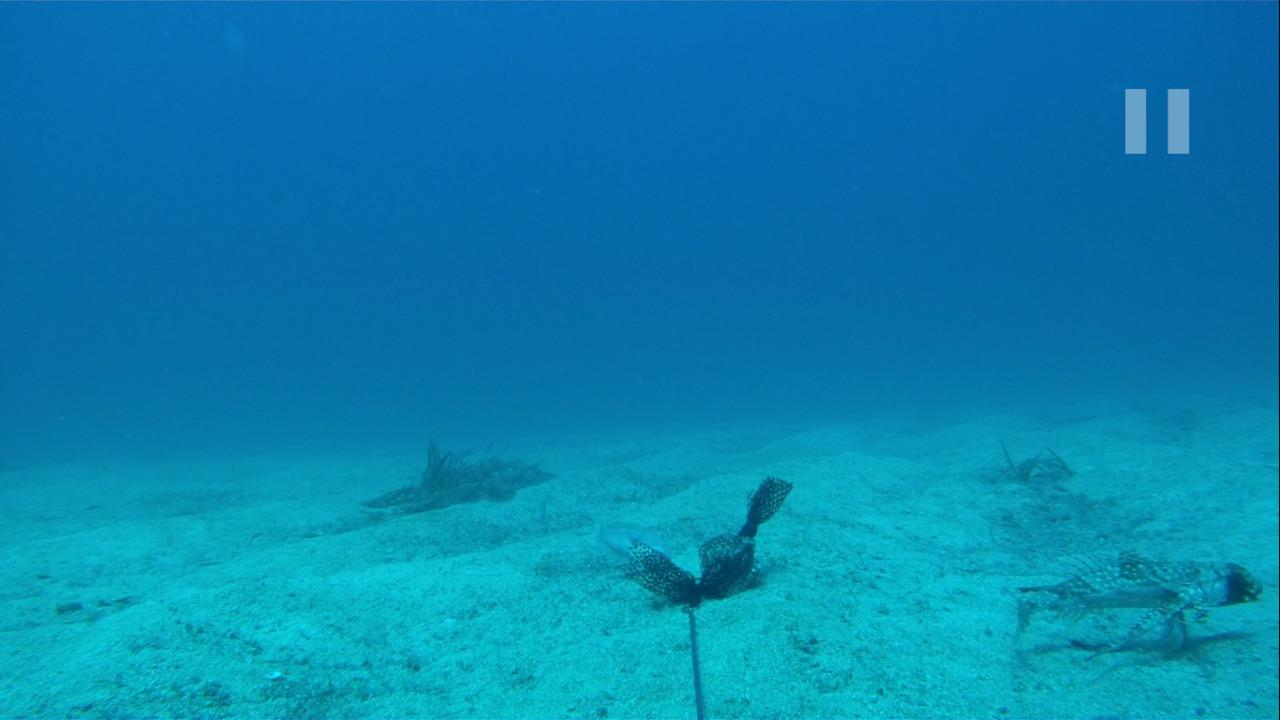dactylopterus: (1006, 543, 1264, 658)
